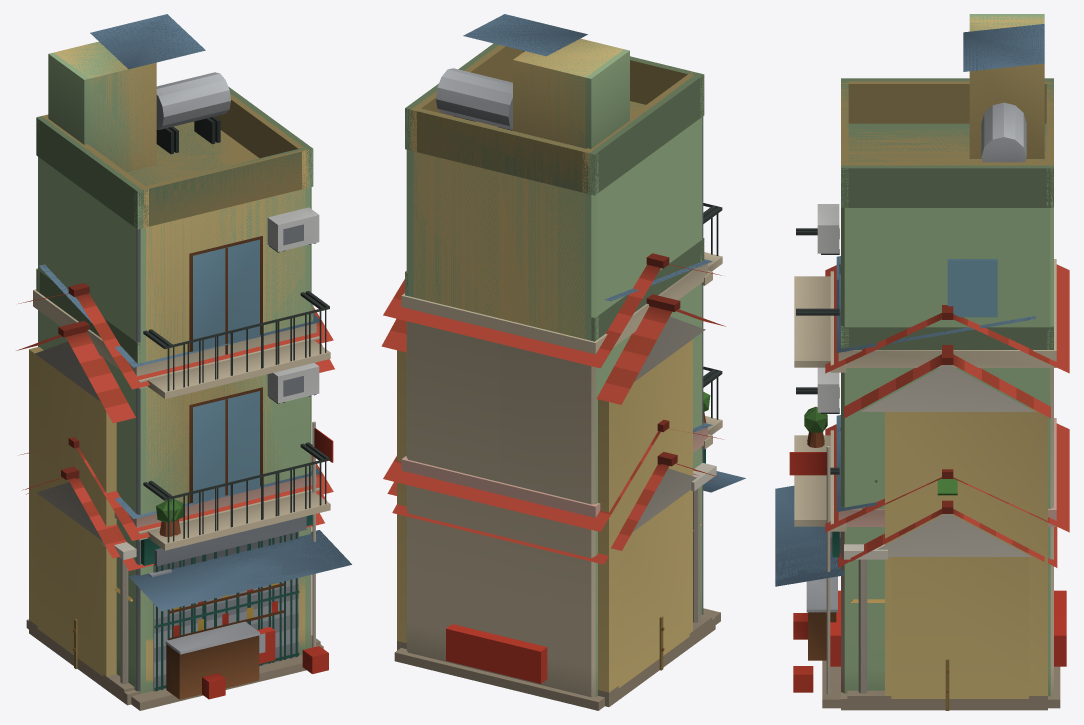
Rendered from village.glb.
3 renders of one model, left to right at view 1: azimuth 30°, elevation 25°; view 2: azimuth 150°, elevation 25°; view 3: azimuth 270°, elevation 25°, orthographic. The views are drawn at different scales.
Visible parts, largest first — view 1: nha-ong-2-lau, nha-pho-b, uy-ban, truong-lang, nha-ong-1-lau, tiem-tap-hoa-trang, nha-2-tang, nha-pho-c, nha-pho-d, nha-pho-a, tiem-tap-hoa, xe-hoi-do; view 2: nha-pho-a, nha-pho-b, nha-ong-2-lau, uy-ban, truong-lang, nha-2-tang, tiem-tap-hoa-trang, xe-hoi-do, nha-ong-1-lau, nha-pho-c, tiem-tap-hoa, nha-cap4; view 3: nha-pho-b, uy-ban, truong-lang, nha-ong-2-lau, nha-2-tang, tiem-tap-hoa-trang, nha-pho-a, nha-ong-1-lau, nha-pho-c, tiem-tap-hoa, xe-hoi-do.
Boxes of the visible parts, bbox=[...] form: nha-ong-2-lau: bbox=[42, 14, 325, 706]; nha-pho-b: bbox=[36, 41, 330, 710]; uy-ban: bbox=[16, 321, 334, 692]; truong-lang: bbox=[22, 421, 333, 705]; nha-ong-1-lau: bbox=[25, 283, 328, 689]; tiem-tap-hoa-trang: bbox=[20, 437, 351, 702]; nha-2-tang: bbox=[36, 268, 313, 699]; nha-pho-c: bbox=[18, 285, 333, 699]; nha-pho-d: bbox=[154, 516, 306, 691]; nha-pho-a: bbox=[26, 264, 328, 710]; tiem-tap-hoa: bbox=[114, 465, 319, 691]; xe-hoi-do: bbox=[257, 627, 275, 663]; nha-pho-a: bbox=[401, 259, 721, 710]; nha-pho-b: bbox=[405, 38, 722, 614]; nha-ong-2-lau: bbox=[410, 14, 716, 418]; uy-ban: bbox=[381, 294, 725, 706]; truong-lang: bbox=[387, 452, 719, 699]; nha-2-tang: bbox=[394, 238, 722, 710]; tiem-tap-hoa-trang: bbox=[383, 419, 745, 701]; xe-hoi-do: bbox=[446, 624, 547, 683]; nha-ong-1-lau: bbox=[388, 253, 716, 379]; nha-pho-c: bbox=[383, 254, 721, 463]; tiem-tap-hoa: bbox=[401, 422, 712, 517]; nha-cap4: bbox=[392, 459, 714, 564]; nha-pho-b: bbox=[794, 14, 1053, 526]; uy-ban: bbox=[844, 345, 1050, 710]; truong-lang: bbox=[789, 446, 1044, 710]; nha-ong-2-lau: bbox=[794, 16, 1053, 520]; nha-2-tang: bbox=[793, 326, 1053, 696]; tiem-tap-hoa-trang: bbox=[775, 423, 1069, 699]; nha-pho-a: bbox=[796, 256, 1060, 708]; nha-ong-1-lau: bbox=[796, 267, 1069, 469]; nha-pho-c: bbox=[793, 264, 1069, 674]; tiem-tap-hoa: bbox=[836, 415, 1056, 692]; xe-hoi-do: bbox=[830, 590, 1066, 666].
Size of the model in its own units: 4.4 by 10.86 by 4.7.
